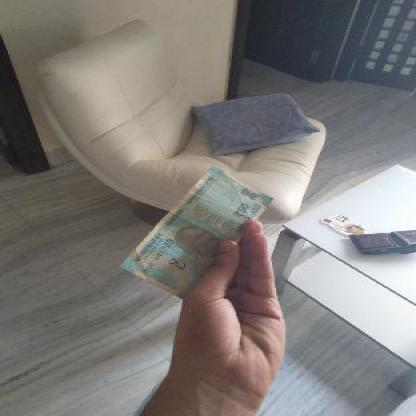New50Front: (137, 162, 271, 294)
